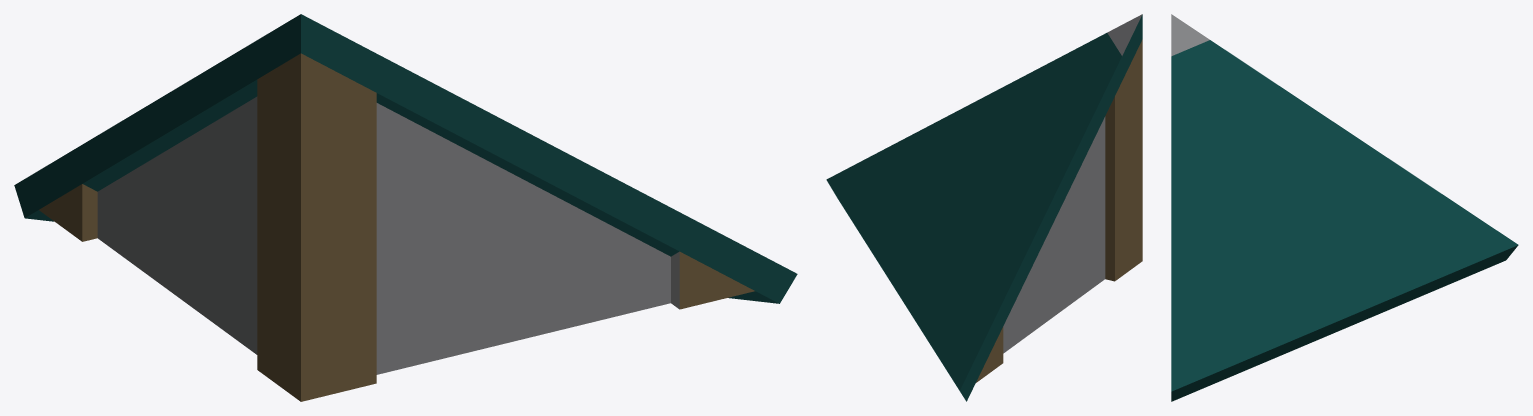
File: Roof_Corner_Green_01.obj
3 views of the same model, side by side, from view 1: azimuth 30°, elevation 25°; view 2: azimuth 150°, elevation 25°; view 3: azimuth 270°, elevation 25° (orthographic). The views are drawn at different scales.
Parts seen in each view (by area): view 1: Mesh1_Roof_Corner_Green_Model; view 2: Mesh1_Roof_Corner_Green_Model; view 3: Mesh1_Roof_Corner_Green_Model.
Part boxes in pixels (<box>): Mesh1_Roof_Corner_Green_Model: <box>14,14,797,401</box>; Mesh1_Roof_Corner_Green_Model: <box>826,14,1142,401</box>; Mesh1_Roof_Corner_Green_Model: <box>1171,14,1518,401</box>.
Size of the model in its own units: 3.28 by 2.57 by 3.28.
